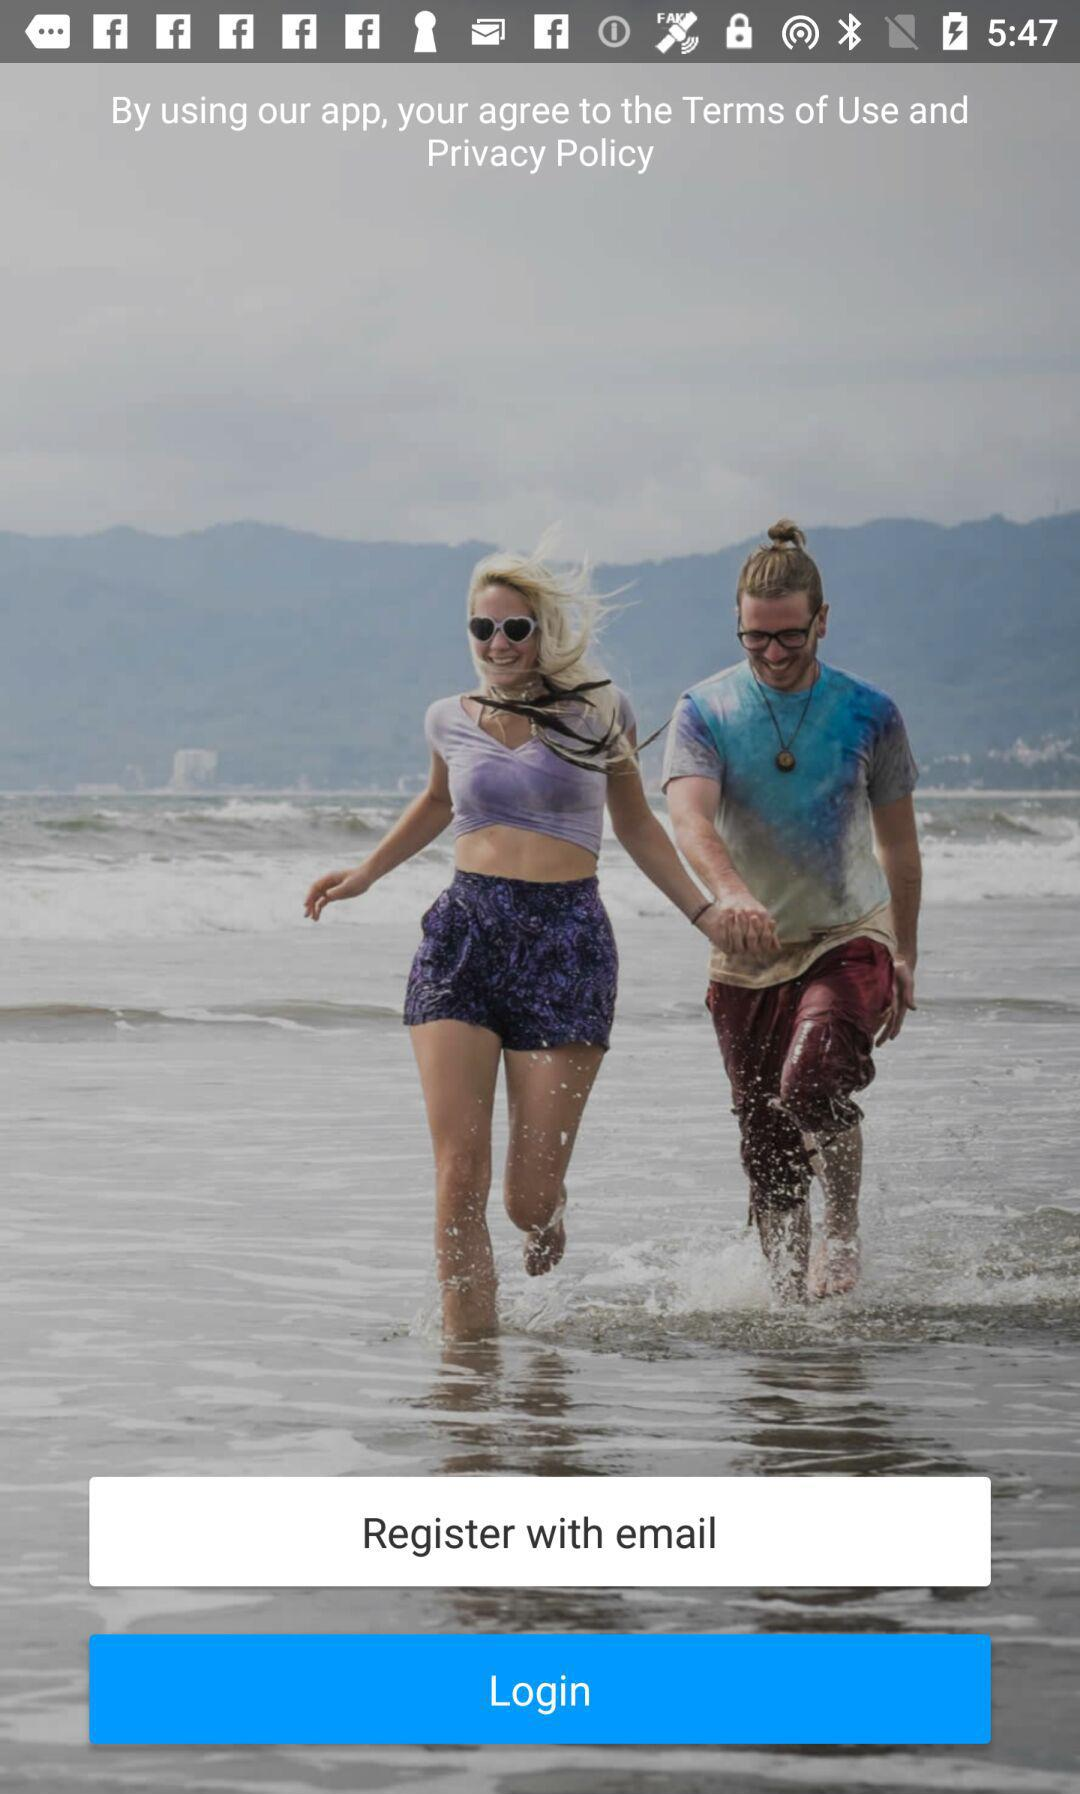BackgroundImage: (1, 64, 1080, 1794)
Text: (111, 94, 969, 178)
TextButton: (90, 1633, 992, 1745), (88, 1476, 992, 1586)
UpperTaskBar: (1, 1, 1080, 64)
